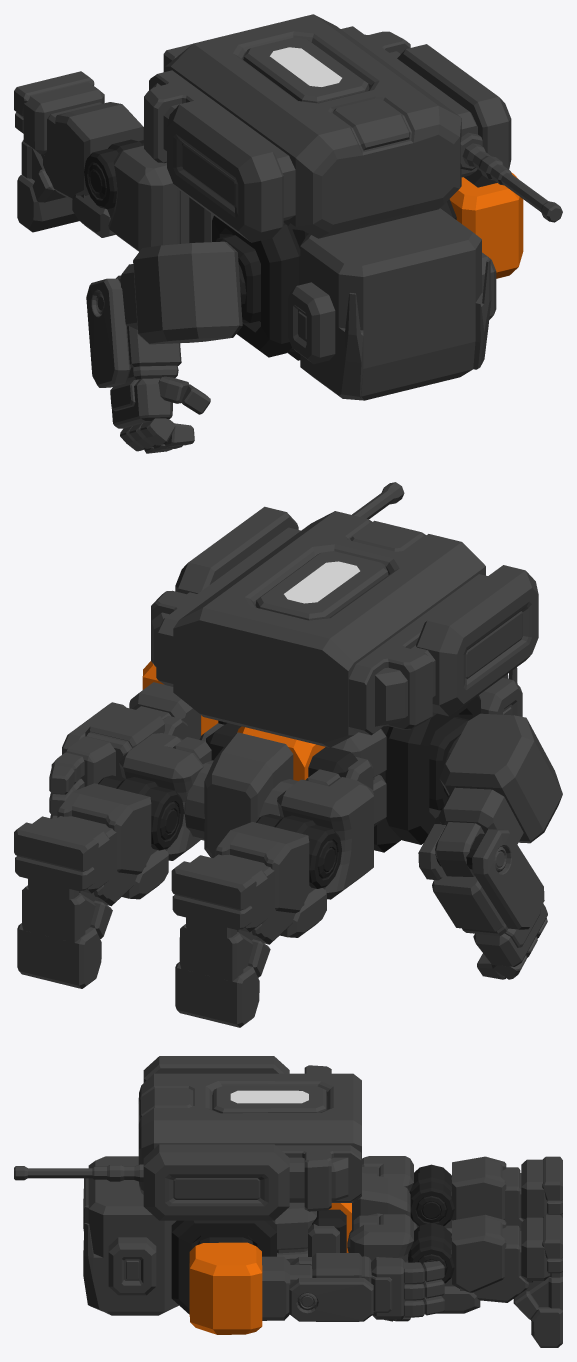
Rendered from Player_Tech_V9.fbx.
The picture shows the model from 3 angles, top to bottom: view 1: azimuth 30°, elevation 25°; view 2: azimuth 150°, elevation 25°; view 3: azimuth 270°, elevation 25°; orthographic projection. The views are drawn at different scales.
Parts seen in each view (by area): view 1: Cube.041, Cube.045, Cube.043, Cube.047, Cube.042, Cube.063, Cube.022, Cube.025, Cube.066, Cube.050, Cube.046, Cube.069 (+15 smaller); view 2: Cube.041, Cube.043, Cube.042, Cube.047, Cube.015, Cube.063, Cube.022, Cube.050, Cube.009, Cube.066, Cube.073, Cube.007 (+31 smaller); view 3: Cube.041, Cube.043, Cube.045, Cube.025, Cube.029, Cube.009, Cube.022, Cube.042, Cube.066, Cube.046, Cube.013, Cylinder.003 (+24 smaller).
Boxes of the visible parts, x1=… form: Cube.041: x1=165, y1=14, x2=461, y2=238; Cube.045: x1=300, y1=208, x2=491, y2=400; Cube.043: x1=167, y1=44, x2=511, y2=242; Cube.047: x1=133, y1=241, x2=242, y2=344; Cube.042: x1=144, y1=26, x2=477, y2=220; Cube.063: x1=108, y1=145, x2=180, y2=251; Cube.022: x1=212, y1=199, x2=456, y2=357; Cube.025: x1=449, y1=172, x2=523, y2=278; Cube.066: x1=55, y1=102, x2=143, y2=195; Cube.050: x1=86, y1=278, x2=130, y2=387; Cube.046: x1=288, y1=252, x2=496, y2=364; Cube.069: x1=23, y1=82, x2=104, y2=154; Cube.041: x1=173, y1=511, x2=485, y2=747; Cube.043: x1=175, y1=506, x2=538, y2=716; Cube.042: x1=151, y1=527, x2=487, y2=735; Cube.047: x1=439, y1=713, x2=562, y2=843; Cube.015: x1=204, y1=732, x2=293, y2=857; Cube.063: x1=277, y1=777, x2=373, y2=899; Cube.022: x1=223, y1=695, x2=480, y2=844; Cube.050: x1=418, y1=824, x2=544, y2=929; Cube.009: x1=57, y1=783, x2=151, y2=874; Cube.066: x1=215, y1=822, x2=309, y2=913; Cube.073: x1=171, y1=861, x2=256, y2=929; Cube.007: x1=14, y1=822, x2=98, y2=890; Cube.041: x1=138, y1=1073, x2=361, y2=1202; Cube.043: x1=143, y1=1056, x2=289, y2=1220; Cube.045: x1=83, y1=1156, x2=178, y2=1315; Cube.025: x1=189, y1=1242, x2=262, y2=1334; Cube.029: x1=289, y1=1257, x2=373, y2=1321; Cube.009: x1=452, y1=1214, x2=506, y2=1292; Cube.022: x1=171, y1=1220, x2=276, y2=1314; Cube.042: x1=276, y1=1065, x2=361, y2=1211; Cube.066: x1=452, y1=1156, x2=506, y2=1220; Cube.046: x1=108, y1=1237, x2=156, y2=1295; Cube.013: x1=350, y1=1214, x2=413, y2=1262; Cylinder.003: x1=409, y1=1164, x2=454, y2=1225.
Size of the model in its own units: 2.24 by 1.9 by 3.46.
2 materials, 1 textured.
